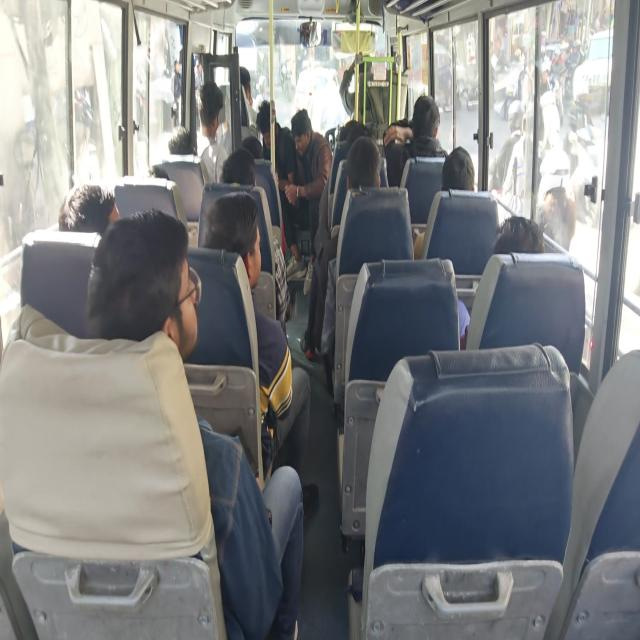person: (86, 207, 304, 638), (203, 190, 319, 515), (300, 135, 381, 360), (219, 147, 290, 329), (457, 214, 545, 348), (281, 108, 332, 276), (255, 99, 302, 262), (413, 145, 475, 259), (383, 94, 446, 186), (536, 147, 577, 251), (255, 99, 297, 190), (488, 99, 524, 192), (58, 182, 120, 234), (197, 81, 228, 184), (492, 215, 544, 255), (440, 146, 476, 191), (168, 124, 195, 155), (170, 59, 182, 126)
